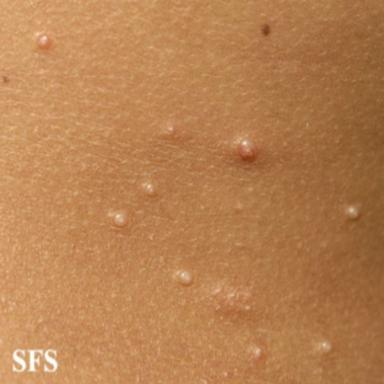Molluscum-Contagiosum: (238, 139, 257, 159), (345, 205, 360, 220), (178, 270, 193, 285), (113, 212, 127, 227), (37, 35, 52, 49), (320, 340, 332, 353), (144, 183, 155, 197)
